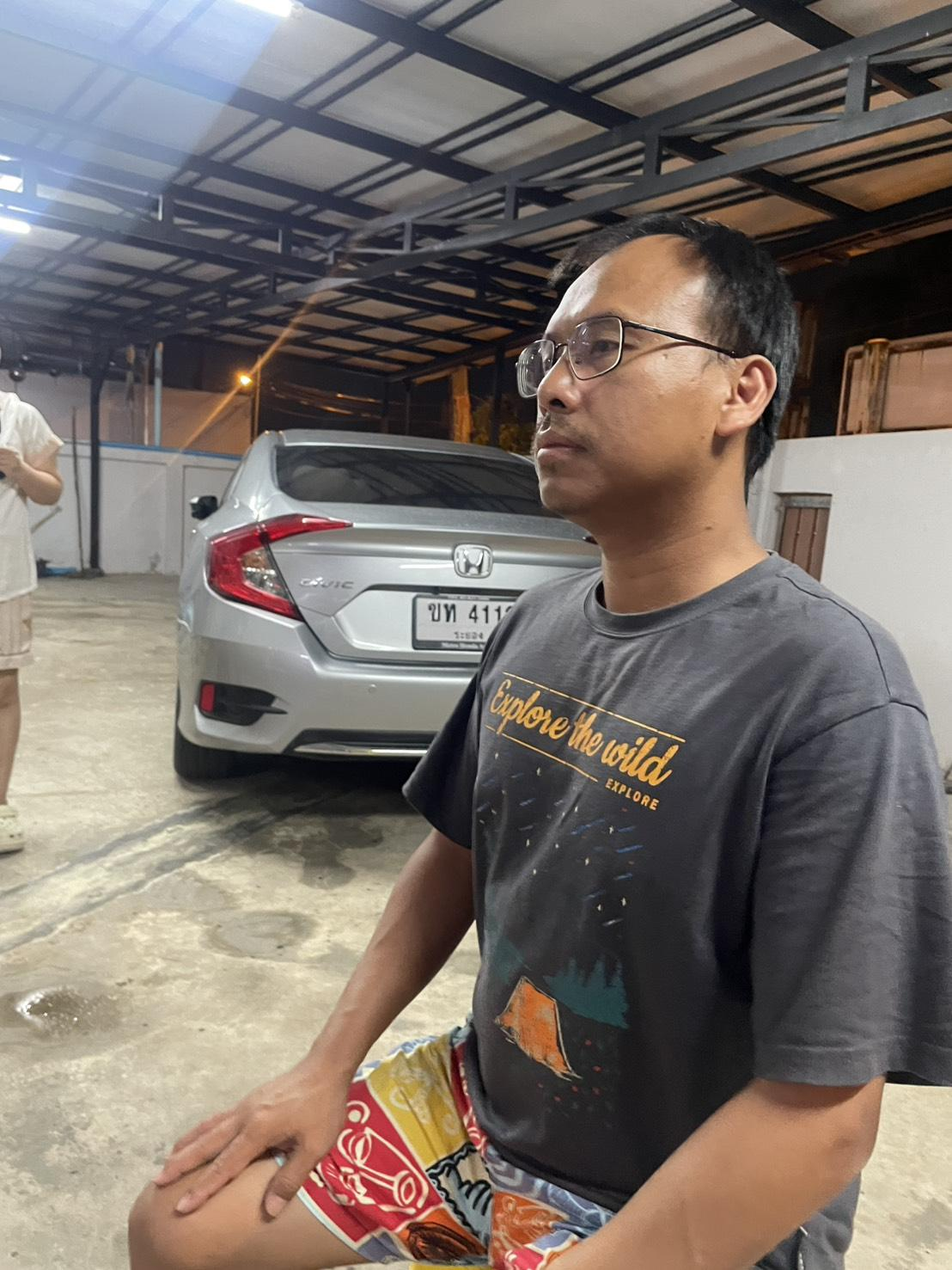GoodPosture: (156, 212, 951, 1269)
